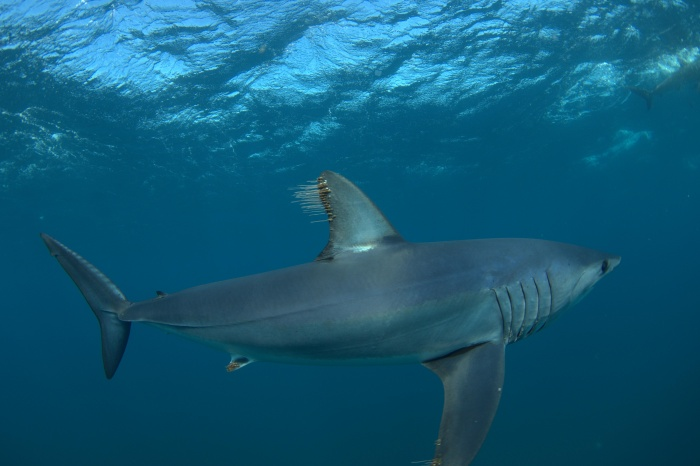Mako: (24, 164, 636, 464)
